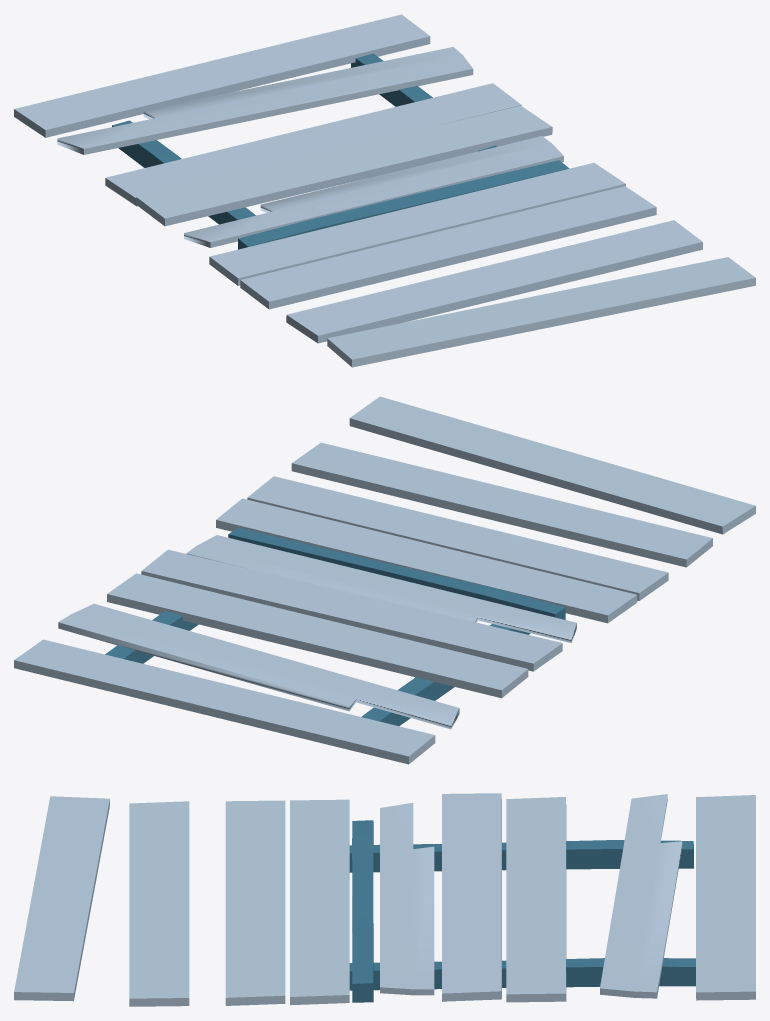
File: Beam_Structure_03B_Lod0.fbx
3 views of the same model, one above another, from view 1: azimuth 30°, elevation 25°; view 2: azimuth 150°, elevation 25°; view 3: azimuth 270°, elevation 25° (orthographic). The views are drawn at different scales.
Parts seen in each view (by area): view 1: Beam_Structure_03B_Lod0; view 2: Beam_Structure_03B_Lod0; view 3: Beam_Structure_03B_Lod0.
Boxes of the visible parts, box(x1,y1,x2,y2) form: Beam_Structure_03B_Lod0: box(14, 14, 755, 367); Beam_Structure_03B_Lod0: box(14, 396, 755, 764); Beam_Structure_03B_Lod0: box(14, 793, 755, 1006).
Size of the model in its own units: 161 by 13.85 by 253.
